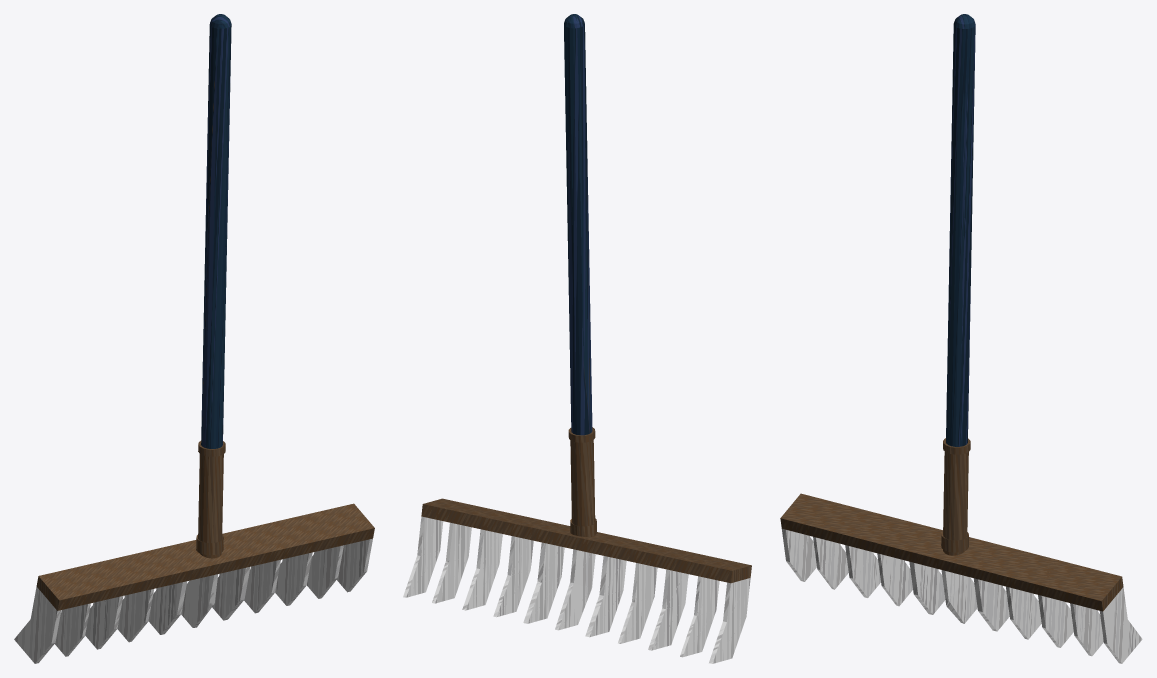
File: reastrillo.fbx
3 views of the same model, side by side, from view 1: azimuth 30°, elevation 25°; view 2: azimuth 150°, elevation 25°; view 3: azimuth 330°, elevation 25° (orthographic). The views are drawn at different scales.
Visible parts, largest first — view 1: reastrillo; view 2: reastrillo; view 3: reastrillo.
Boxes of the visible parts, x1=… form: reastrillo: x1=14, y1=14, x2=374, y2=663; reastrillo: x1=403, y1=14, x2=751, y2=663; reastrillo: x1=780, y1=14, x2=1142, y2=663.
Size of the model in its own units: 254 by 472 by 62.29.
